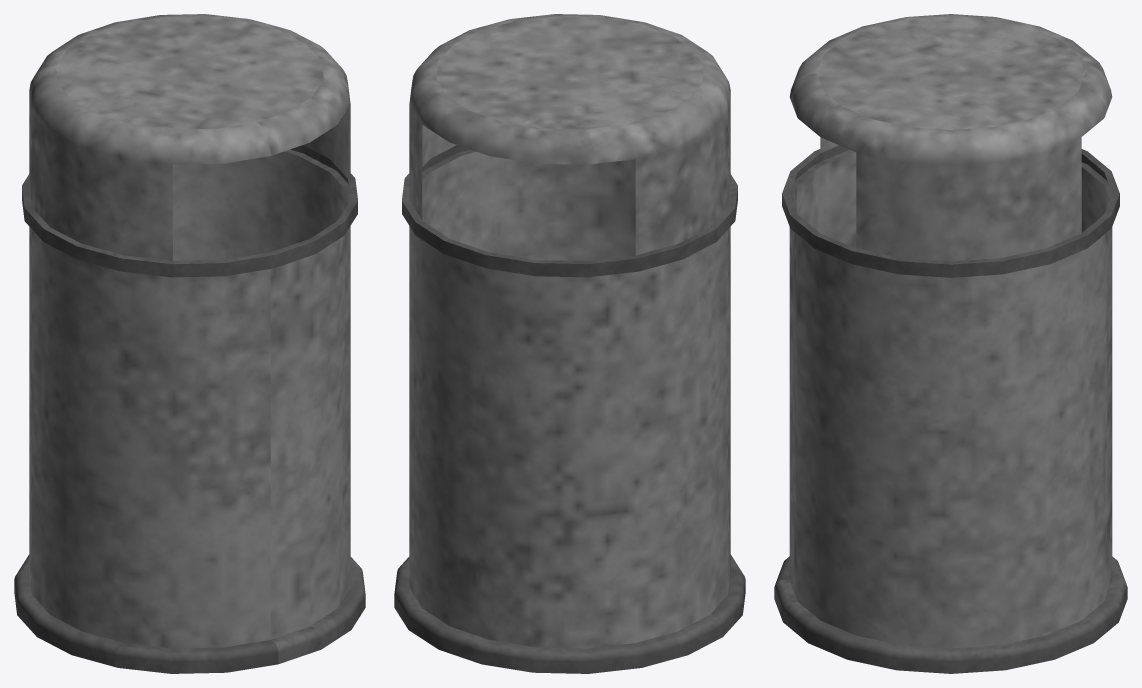
Rendered from Casino_Bin_low Textured.fbx.
3 views of the same model, side by side, from view 1: azimuth 30°, elevation 25°; view 2: azimuth 150°, elevation 25°; view 3: azimuth 270°, elevation 25° (orthographic).
Visible parts, largest first — view 1: Casino_Bin_low; view 2: Casino_Bin_low; view 3: Casino_Bin_low.
Part boxes in pixels (bbox=[...]): Casino_Bin_low: bbox=[14, 14, 365, 673]; Casino_Bin_low: bbox=[394, 14, 745, 673]; Casino_Bin_low: bbox=[774, 14, 1127, 673].
Size of the model in its own units: 2.19 by 3.6 by 2.19.
